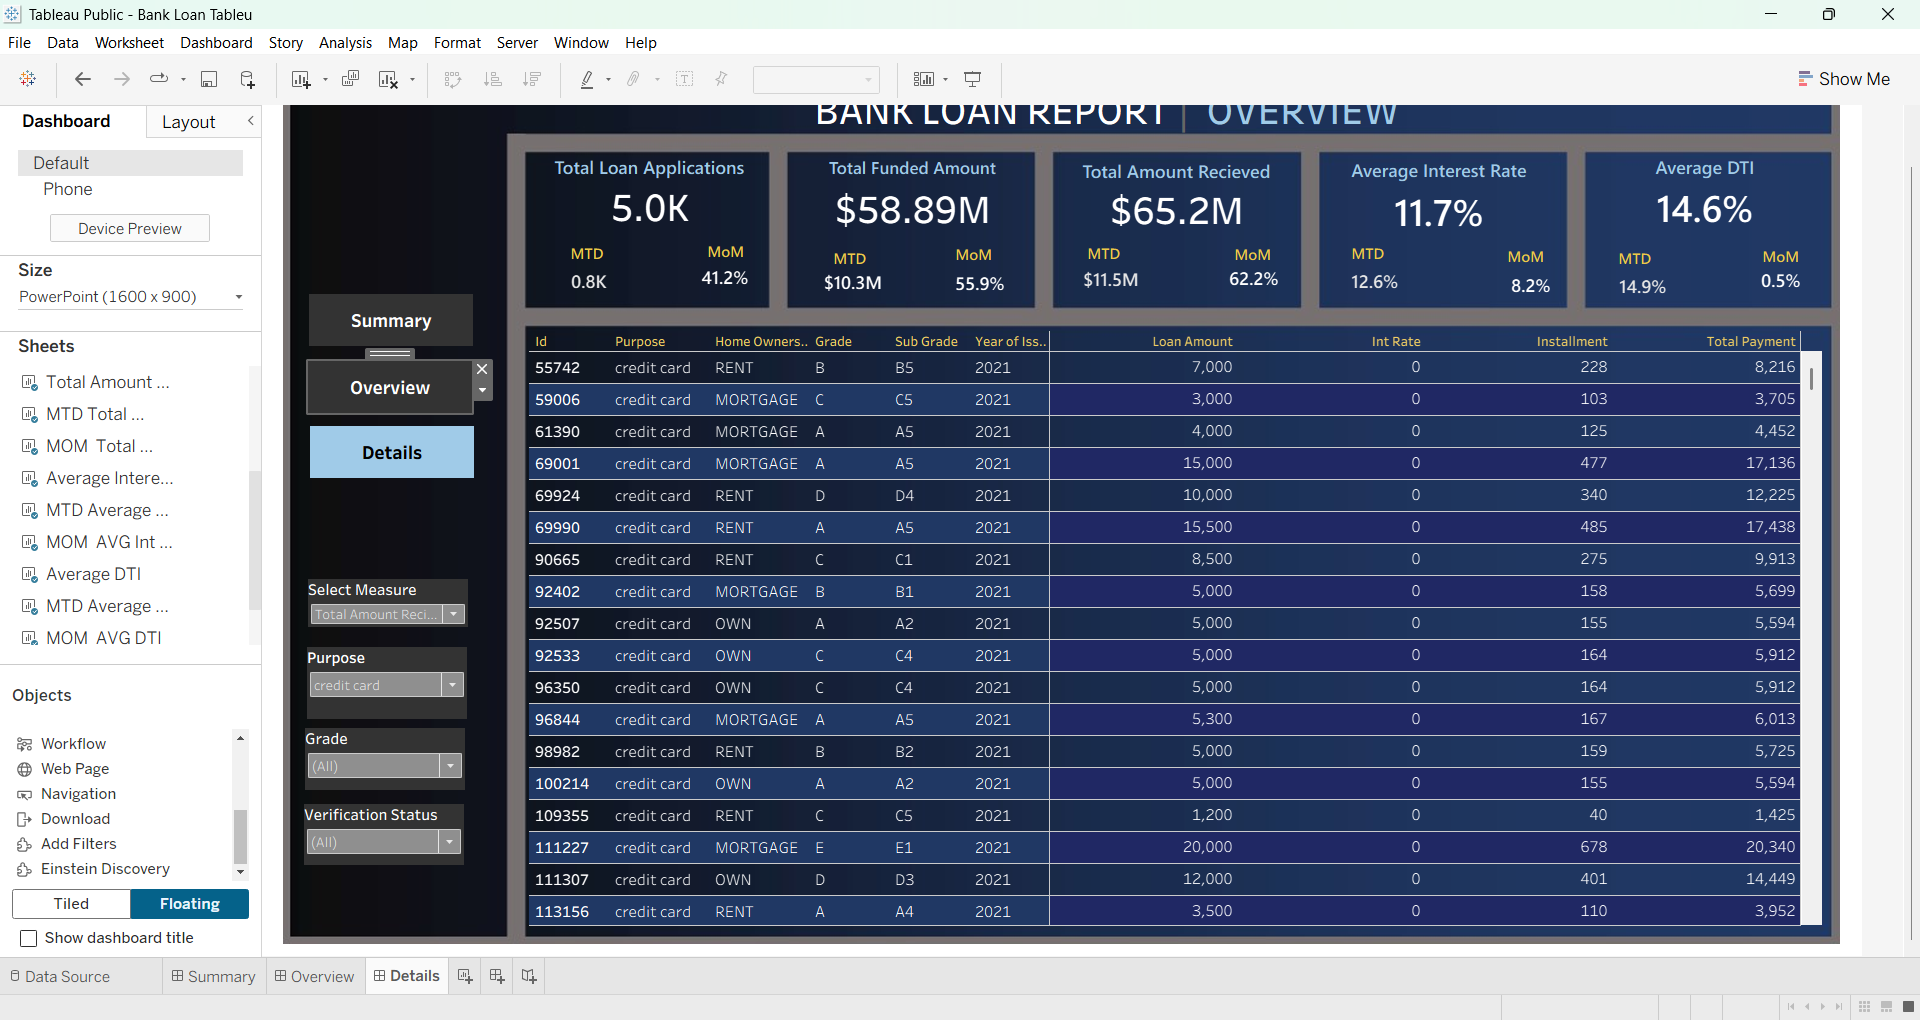

This screenshot's page, from the dashboard's own definition file:
{"tool":"powerbi","page":{"name":"Details","canvas":[1280,720],"ordinal":2},"visuals":[{"type":"shape","box":[0,0,1280.3,52.1],"z":0},{"type":"shape","box":[208.6,68.6,182,116.6],"z":0,"group":"g1"},{"type":"shape","box":[421.6,68.6,182,116.6],"z":0,"group":"g2"},{"type":"shape","box":[847.7,70,182,116.6],"z":0,"group":"g4"},{"type":"shape","box":[1053.9,70,192.3,116.6],"z":0,"group":"g5"},{"type":"shape","box":[634.7,71.4,182,116.6],"z":0,"group":"g3"},{"type":"shape","box":[1.4,52.1,192.1,668.3],"z":1000},{"type":"card","fields":{"Values":["bank_loan_data.Total Loan Applications"]},"box":[234.2,75.5,130.8,63.1],"z":1000,"group":"g1"},{"type":"card","fields":{"Values":["bank_loan_data.TOTAL FUNDED AMOUNT"]},"box":[442.7,81.5,142.7,54.9],"z":1000,"group":"g2"},{"type":"card","fields":{"Values":["bank_loan_data.AVG INTEREST RATE"]},"box":[868.8,82.9,142.7,54.9],"z":1000,"group":"g4"},{"type":"card","fields":{"Values":["bank_loan_data.Total Funded Amount"]},"box":[1076.2,82.9,150.8,54.9],"z":1000,"group":"g5"},{"type":"card","fields":{"Values":["bank_loan_data.TOTAL RECIEVED AMOUNT"]},"box":[655.8,84.2,142.7,54.9],"z":1000,"group":"g3"},{"type":"textbox","box":[629.1,65.6,208.9,35],"z":2000,"group":"g3"},{"type":"group","id":"g1","title":"Group 1","box":[208.6,68.6,194.9,116.6],"z":2000},{"type":"textbox","box":[208.6,68.6,194.9,38.4],"z":2000,"group":"g1"},{"type":"textbox","box":[421.6,68.6,194.9,38.4],"z":2000,"group":"g2"},{"type":"textbox","box":[847.7,70,194.9,38.4],"z":2000,"group":"g4"},{"type":"textbox","box":[1053.9,70,205.8,38.4],"z":2000,"group":"g5"},{"type":"group","id":"g2","title":"Group 1","box":[421.6,68.6,194.9,116.6],"z":3000},{"type":"card","title":"MTD","fields":{"Values":["bank_loan_data.MTD LOAN APPLICATIONS"]},"box":[208.6,131.7,85.9,45.3],"z":3000,"group":"g1"},{"type":"card","title":"MTD","fields":{"Values":["bank_loan_data.MTD FUNDED AMOUNT"]},"box":[421.6,131.7,85.9,45.3],"z":3000,"group":"g2"},{"type":"card","title":"MTD","fields":{"Values":["bank_loan_data.MTD AVG INT RATE"]},"box":[847.7,133.1,85.9,45.3],"z":3000,"group":"g4"},{"type":"card","title":"MTD","fields":{"Values":["bank_loan_data.MTD AVG DTI"]},"box":[1053.9,133.1,90.7,45.3],"z":3000,"group":"g5"},{"type":"card","title":"MTD","fields":{"Values":["bank_loan_data.MTD TOTAL Recieved  AMOUNT"]},"box":[634.7,134.5,85.9,45.3],"z":3000,"group":"g3"},{"type":"group","id":"g3","title":"Group 1","box":[629.1,65.6,208.9,122.4],"z":4000},{"type":"card","title":"MOM","fields":{"Values":["bank_loan_data.MOM LOAN APPLICATIONS"]},"box":[299.6,130.3,85.9,45.3],"z":4000,"group":"g1"},{"type":"card","title":"MOM","fields":{"Values":["bank_loan_data.MOM FUNDED AMOUNT"]},"box":[512.6,130.3,85.9,45.3],"z":4000,"group":"g2"},{"type":"card","title":"MOM","fields":{"Values":["bank_loan_data.MOM AVG INT T"]},"box":[938.7,131.7,85.9,45.3],"z":4000,"group":"g4"},{"type":"card","title":"MOM","fields":{"Values":["bank_loan_data.MOM AVG DTI"]},"box":[1150,131.7,90.7,45.3],"z":4000,"group":"g5"},{"type":"card","title":"MOM","fields":{"Values":["bank_loan_data.MOM received AMOUNT"]},"box":[725.7,133.1,85.9,45.3],"z":4000,"group":"g3"},{"type":"group","id":"g4","title":"Group 1","box":[847.7,70,194.9,116.6],"z":5000},{"type":"group","id":"g5","title":"Group 1","box":[1053.9,70,205.8,116.6],"z":6000},{"type":"actionButton","box":[0,0,100,40],"z":7000},{"type":"slicer","fields":{"Values":["bank_loan_data.address_state"]},"box":[9.6,455,164,43.7],"z":8000},{"type":"textbox","box":[9.6,427.7,87.4,49.2],"z":9000},{"type":"textbox","box":[9.7,507.9,103.8,45.8],"z":10000},{"type":"shape","box":[210.4,211.8,1035.7,496],"z":11000},{"type":"slicer","fields":{"Values":["bank_loan_data.grade"]},"box":[15,542.4,164,50.6],"z":12000},{"type":"slicer","fields":{"Values":["bank_loan_data.purpose"]},"box":[9.6,639.5,168.8,49.4],"z":13000},{"type":"textbox","box":[14.5,605.6,85.7,49.5],"z":14000},{"type":"tableEx","fields":{"Values":["bank_loan_data.id","bank_loan_data.purpose","bank_loan_data.home_ownership","bank_loan_data.grade","bank_loan_data.sub_grade","bank_loan_data.issue_date","bank_loan_data.Total funded amount","Sum(bank_loan_data.int_rate)","Sum(bank_loan_data.installment)","bank_loan_data.Total Received Amount"]},"box":[209.9,112.2,1037.5,486.2],"z":15000},{"type":"pageNavigator","box":[7.2,185.8,179.8,187],"z":16000},{"type":"textbox","box":[440.5,0,481.6,52.1],"z":17000},{"type":"image","box":[14.5,51.9,168.9,105],"z":18000}]}

Visuals, with their boxes on the page's 1280x720 design canvas (x1, y1, x2, y2). These are canvas units, not pixel positions in the 1920x1020 screenshot, which may show the page scaled, cropped or inside an application window:
shape: (0, 0, 1280, 52)
shape: (209, 69, 391, 185)
shape: (422, 69, 604, 185)
shape: (848, 70, 1030, 187)
shape: (1054, 70, 1246, 187)
shape: (635, 71, 817, 188)
shape: (1, 52, 194, 720)
card - bank_loan_data.Total Loan Applications: (234, 76, 365, 139)
card - bank_loan_data.TOTAL FUNDED AMOUNT: (443, 82, 585, 136)
card - bank_loan_data.AVG INTEREST RATE: (869, 83, 1012, 138)
card - bank_loan_data.Total Funded Amount: (1076, 83, 1227, 138)
card - bank_loan_data.TOTAL RECIEVED AMOUNT: (656, 84, 798, 139)
textbox: (629, 66, 838, 101)
"Group 1" group: (209, 69, 404, 185)
textbox: (209, 69, 404, 107)
textbox: (422, 69, 616, 107)
textbox: (848, 70, 1043, 108)
textbox: (1054, 70, 1260, 108)
"Group 1" group: (422, 69, 616, 185)
"MTD" card: (209, 132, 294, 177)
"MTD" card: (422, 132, 508, 177)
"MTD" card: (848, 133, 934, 178)
"MTD" card: (1054, 133, 1145, 178)
"MTD" card: (635, 134, 721, 180)
"Group 1" group: (629, 66, 838, 188)
"MOM" card: (300, 130, 386, 176)
"MOM" card: (513, 130, 598, 176)
"MOM" card: (939, 132, 1025, 177)
"MOM" card: (1150, 132, 1241, 177)
"MOM" card: (726, 133, 812, 178)
"Group 1" group: (848, 70, 1043, 187)
"Group 1" group: (1054, 70, 1260, 187)
actionButton: (0, 0, 100, 40)
slicer - bank_loan_data.address_state: (10, 455, 174, 499)
textbox: (10, 428, 97, 477)
textbox: (10, 508, 114, 554)
shape: (210, 212, 1246, 708)
slicer - bank_loan_data.grade: (15, 542, 179, 593)
slicer - bank_loan_data.purpose: (10, 640, 178, 689)
textbox: (14, 606, 100, 655)
tableEx - bank_loan_data.id x bank_loan_data.purpose: (210, 112, 1247, 598)
pageNavigator: (7, 186, 187, 373)
textbox: (440, 0, 922, 52)
image: (14, 52, 183, 157)
